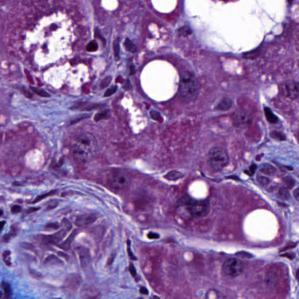ballooning: (181, 3, 291, 59)
